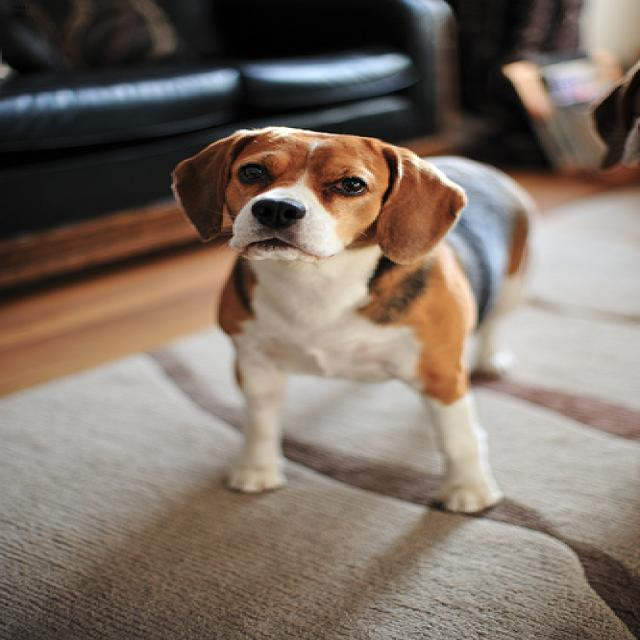dog-beagle: (160, 119, 554, 524)
